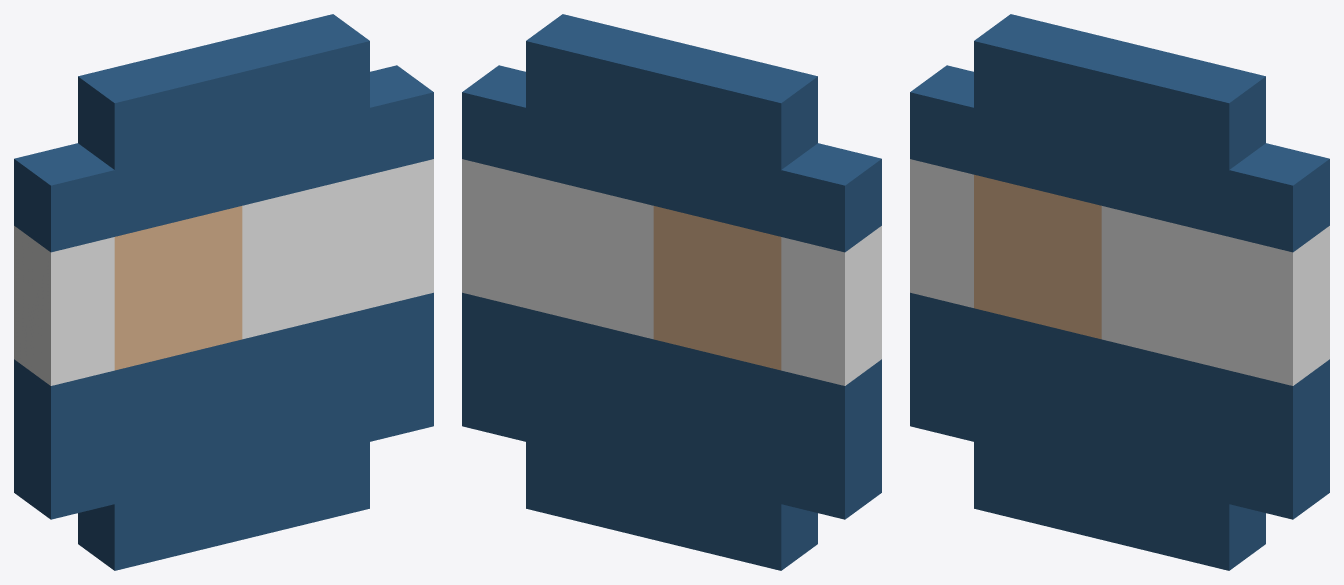
Rendered from KeycardBlue.obj.
3 renders of one model, left to right at view 1: azimuth 30°, elevation 25°; view 2: azimuth 150°, elevation 25°; view 3: azimuth 330°, elevation 25°, orthographic.
Size of the model in its own units: 6 by 7 by 1.
1 material, 1 textured.
